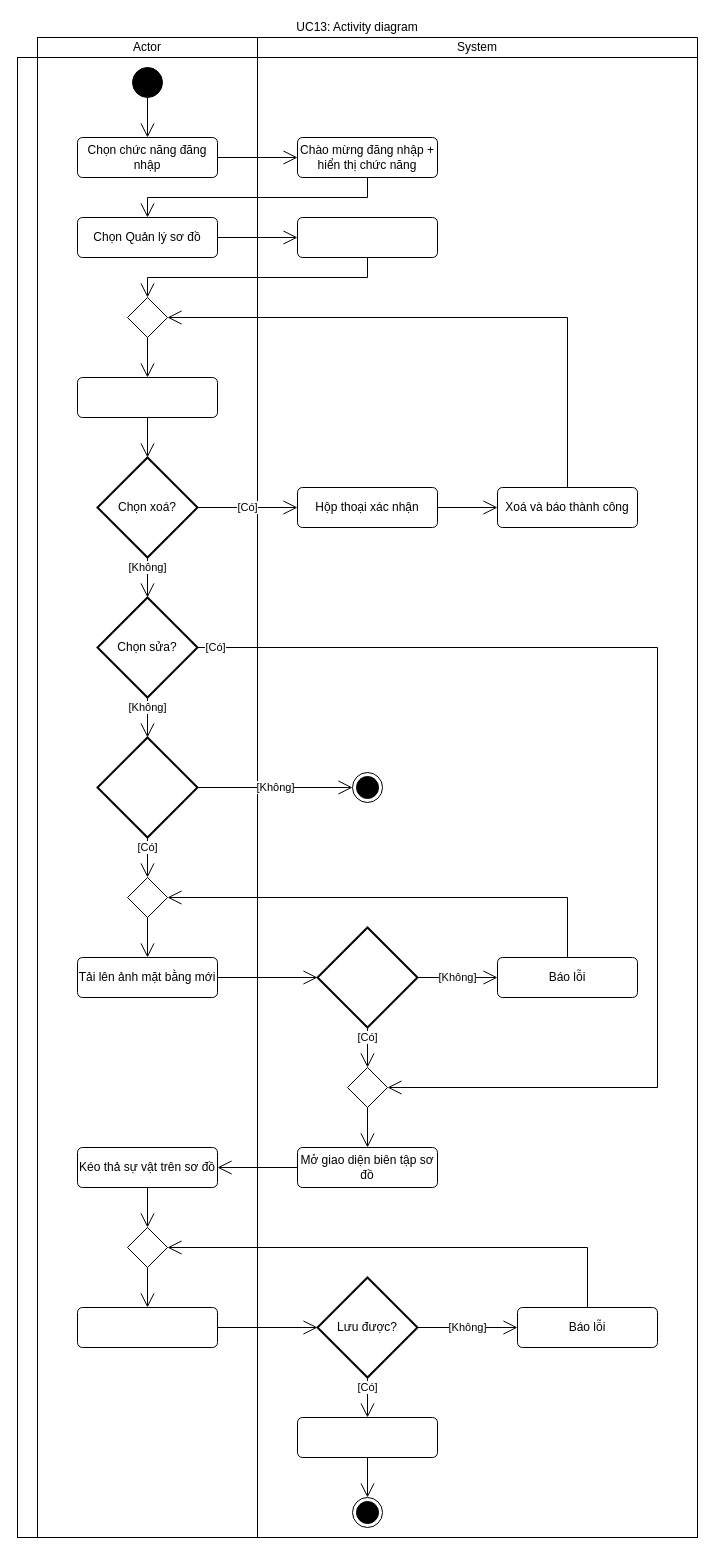
This 715x1555 diagram has some shape labels left out. Here are the shapes that lost their labels. From the top down, the centre of each, then its label:
the point at 367,237: Hiển thị danh sách chức năng
the point at 147,397: Chọn thao tác
the point at 147,787: Thêm mới?
the point at 367,977: File hợp lệ?
the point at 147,1327: Lưu sơ đồ
the point at 367,1437: Cập nhật thành công
